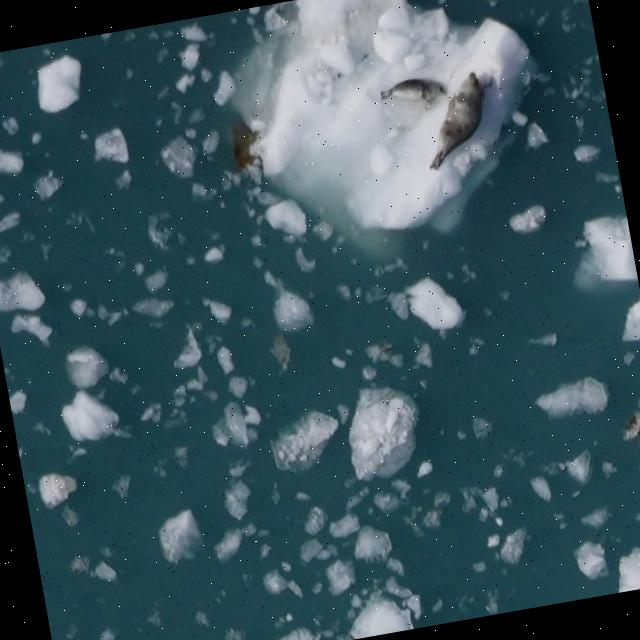seal: (422, 65, 497, 182), (380, 77, 445, 104)
